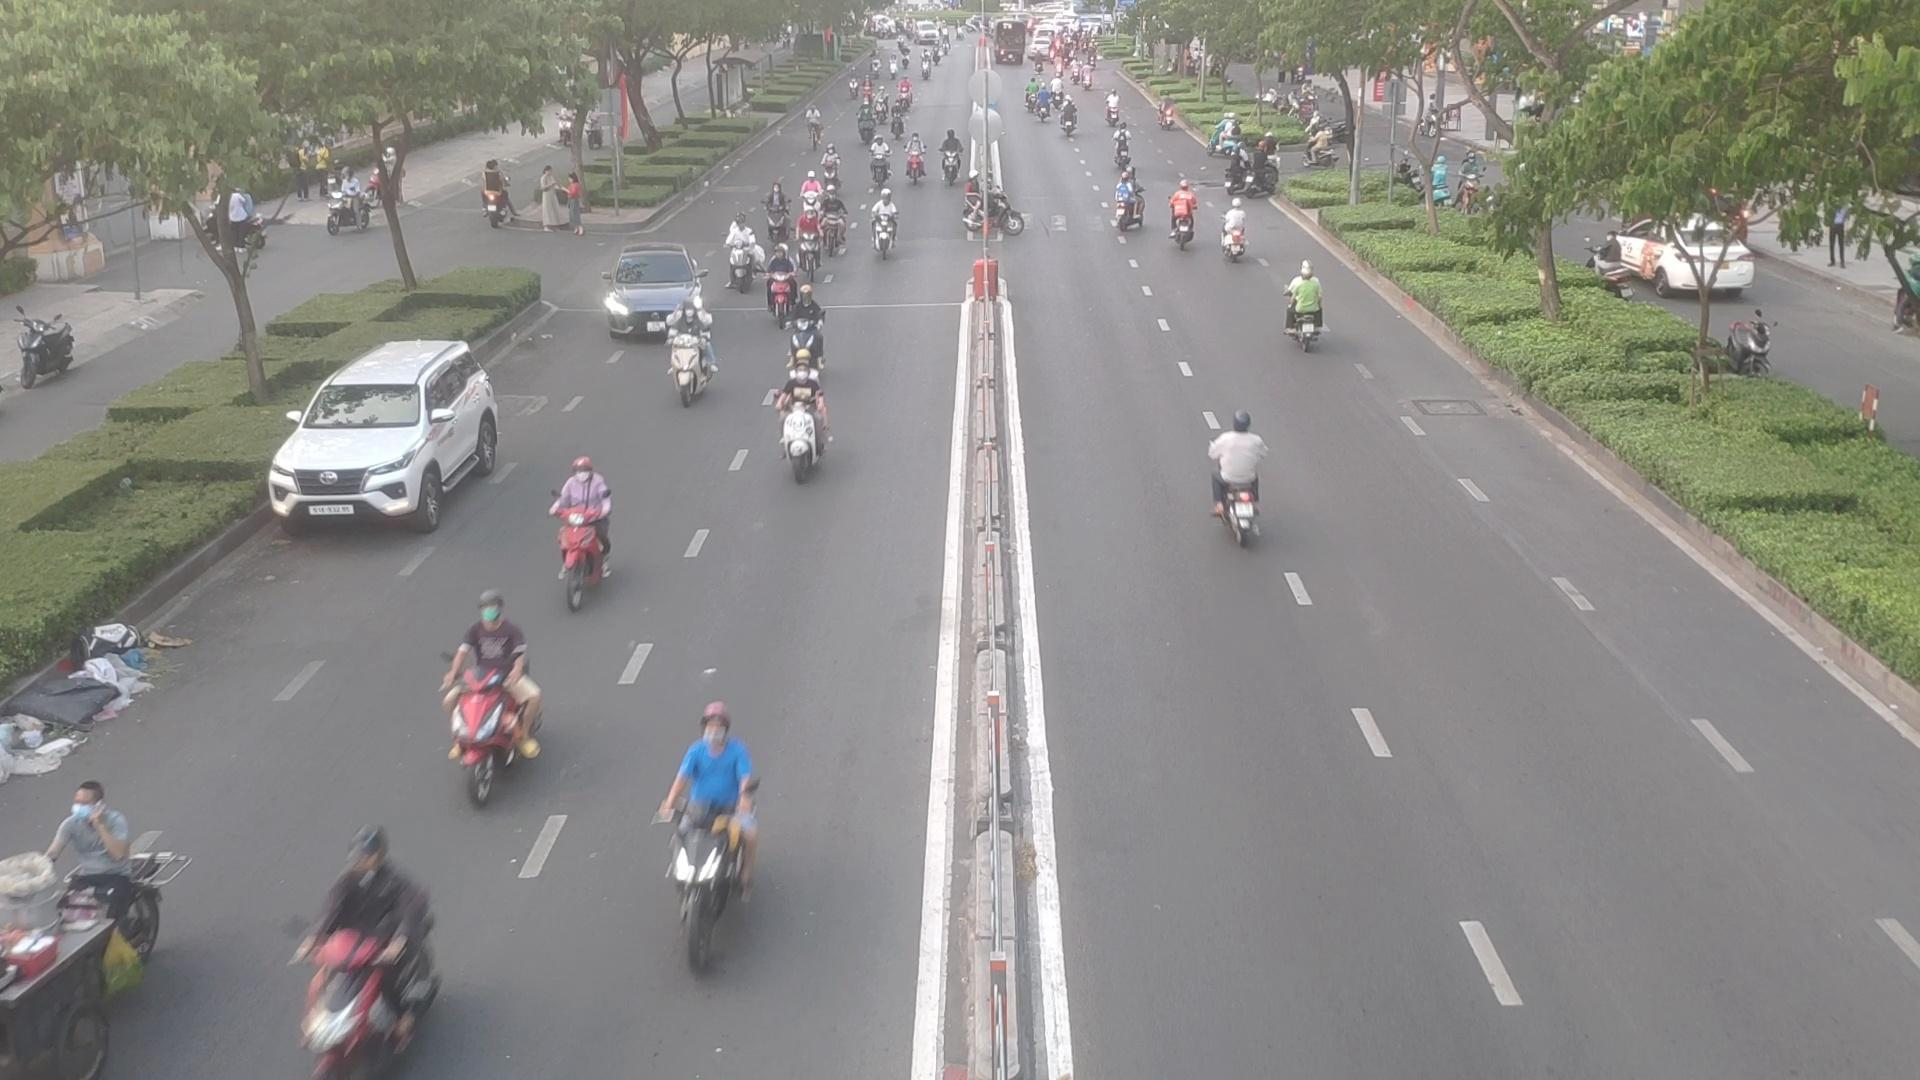car: (269, 342, 518, 531), (596, 251, 711, 342)
motorbike: (0, 848, 160, 1076), (295, 837, 443, 1076), (655, 713, 764, 967), (46, 789, 175, 975), (425, 604, 549, 796), (541, 455, 629, 597), (1207, 413, 1280, 542), (771, 364, 847, 483), (665, 328, 725, 405), (1276, 266, 1332, 348), (767, 255, 822, 328), (969, 181, 1026, 240), (760, 249, 802, 318), (866, 199, 902, 262), (715, 232, 754, 289), (815, 195, 852, 252), (1167, 189, 1200, 252), (1113, 178, 1150, 233), (794, 214, 824, 278), (760, 186, 793, 241), (1220, 200, 1247, 260), (940, 131, 967, 186), (905, 138, 934, 186), (819, 146, 845, 196), (799, 171, 822, 212), (868, 131, 891, 166)
